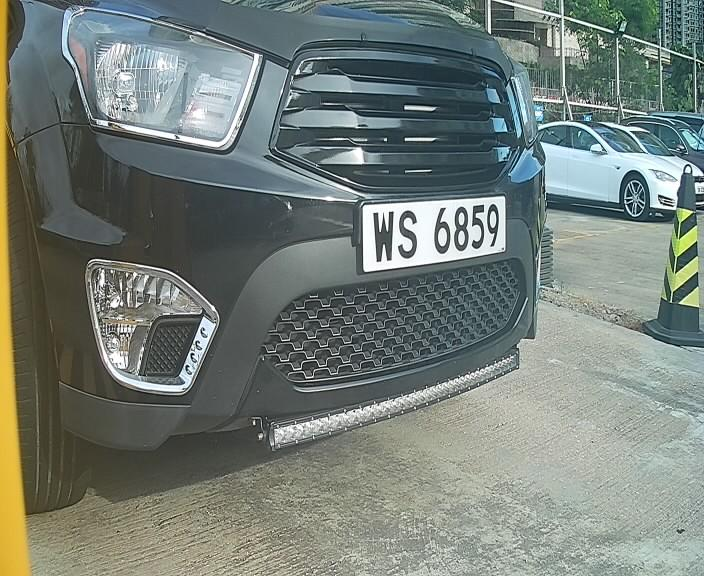Car: (19, 8, 601, 456)
License Plate: (356, 181, 510, 283)
